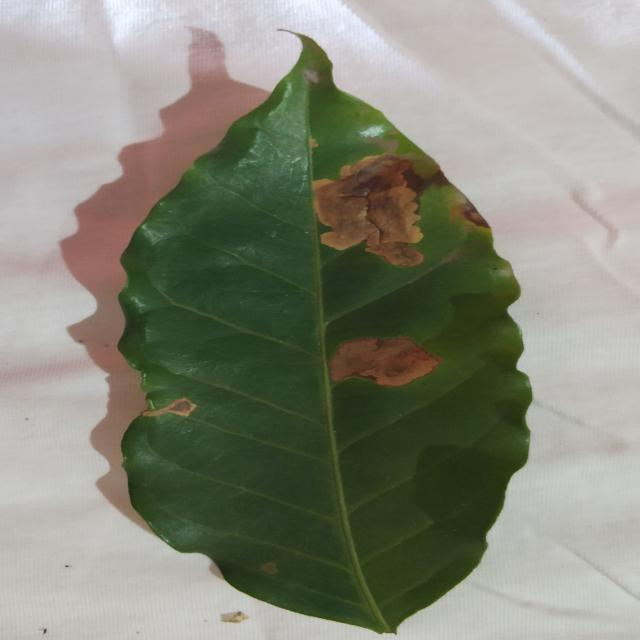Plaga-Minador: (117, 37, 534, 636)
